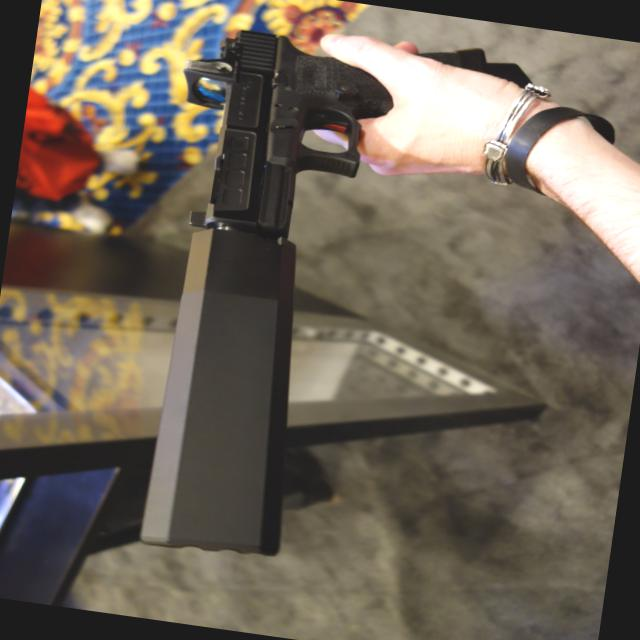handgun: (162, 7, 544, 270)
